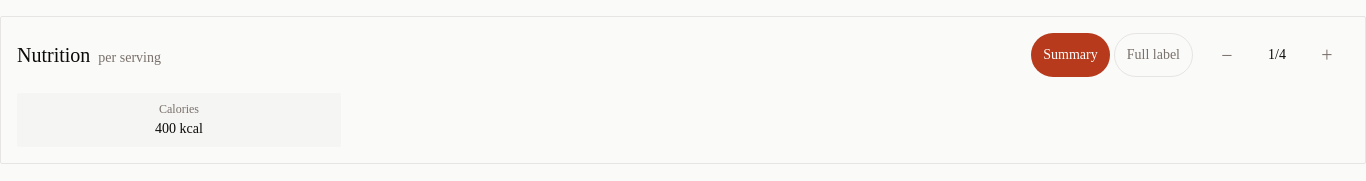
Test case: NutritionPanel › increases portions and scales down per-portion values
Click the button named "smaller portion size". click: (1327, 55)
box: [1305, 33, 1349, 77]
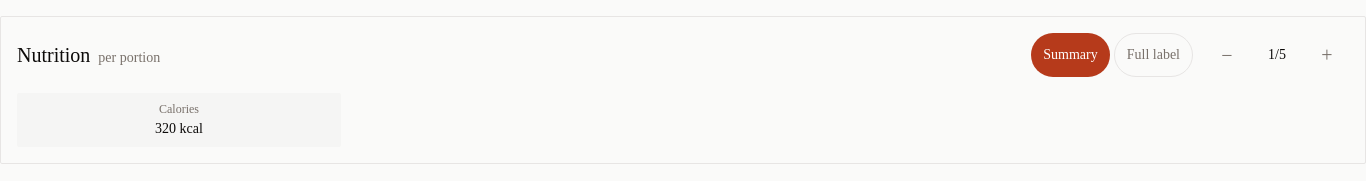
Click the button named "smaller portion size". click: (1327, 55)
box: [1305, 33, 1349, 77]
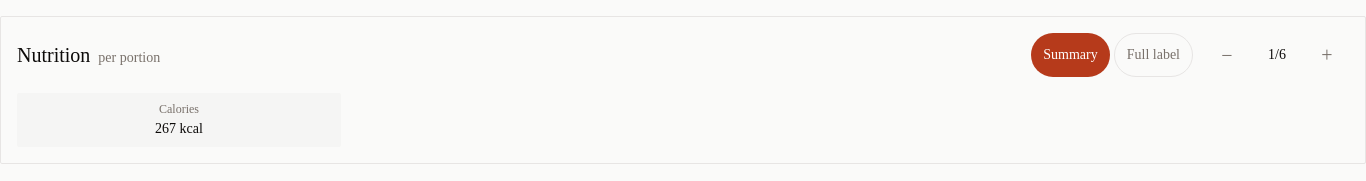
Click the button named "smaller portion size". click: (1327, 55)
box: [1305, 33, 1349, 77]
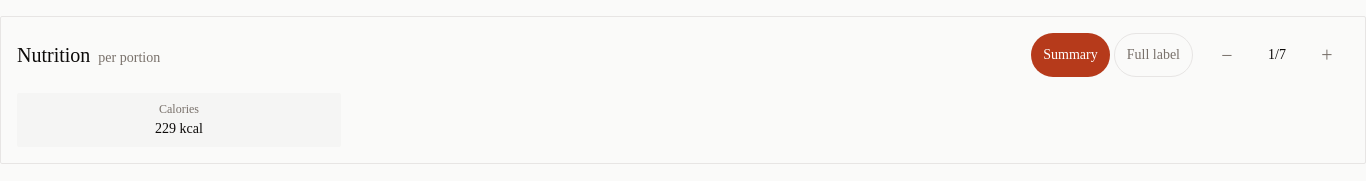
Click the button named "smaller portion size". click: (1327, 55)
box: [1305, 33, 1349, 77]
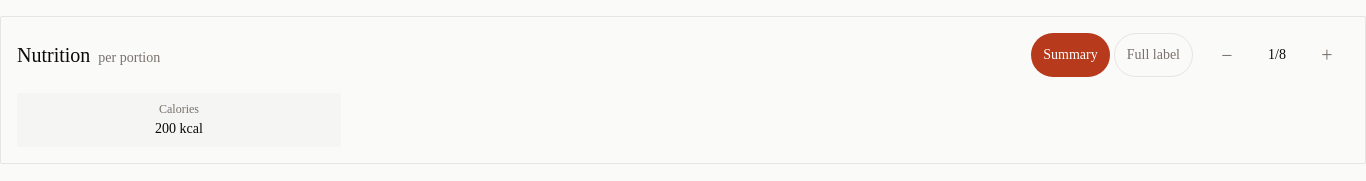
expect the text "per portion" is shown: met, box [98, 48, 160, 68]
expect the text "200 kcal" is shown: met, box [155, 121, 203, 136]
